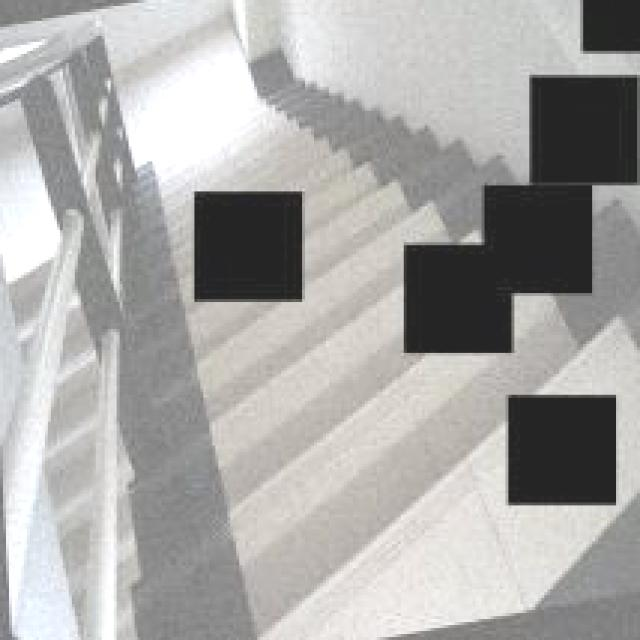downstair: (118, 360, 507, 640)
